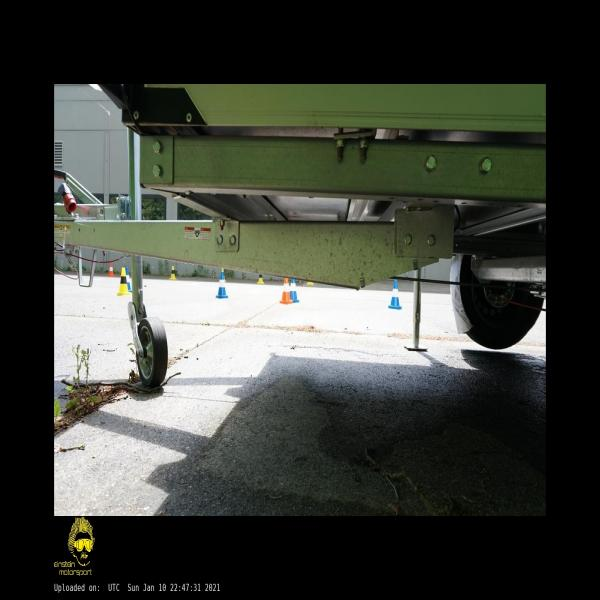blue_cone: (388, 279, 402, 309), (215, 272, 228, 299), (290, 278, 299, 302), (125, 266, 132, 292)
orange_cone: (280, 277, 292, 304), (108, 262, 114, 276)
yellow_cone: (117, 268, 130, 296), (169, 265, 176, 280), (257, 274, 264, 284)
